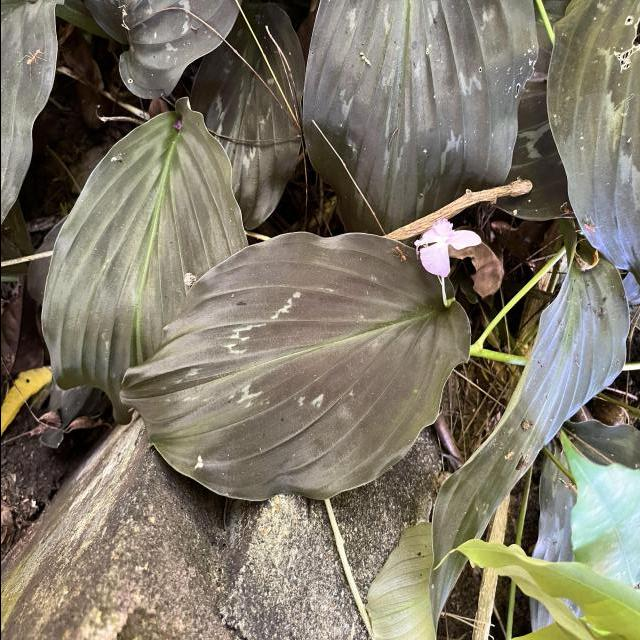Kaempferia galanga linn: (116, 226, 474, 504), (38, 94, 250, 428)
